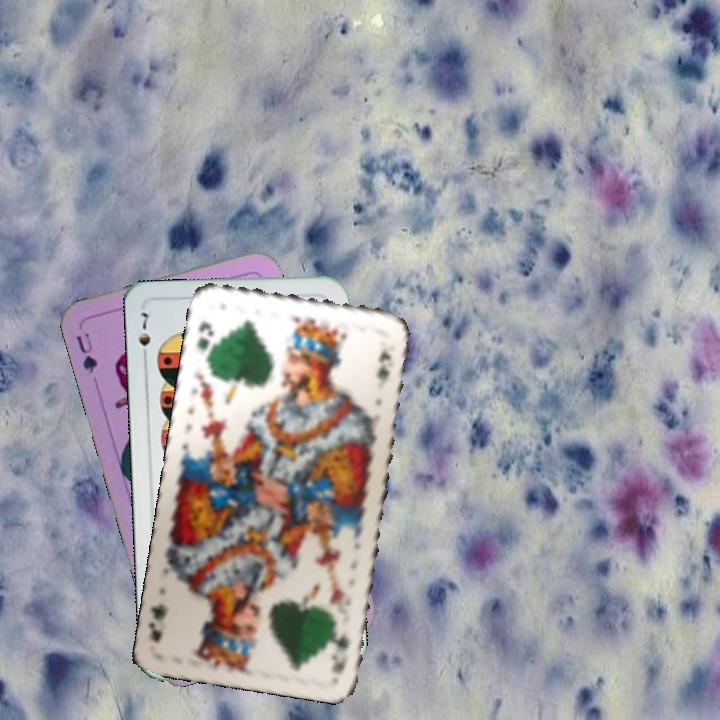GK: (327, 618, 353, 677), (193, 316, 217, 364)
GU: (72, 328, 101, 376)
S7: (134, 308, 153, 365)
